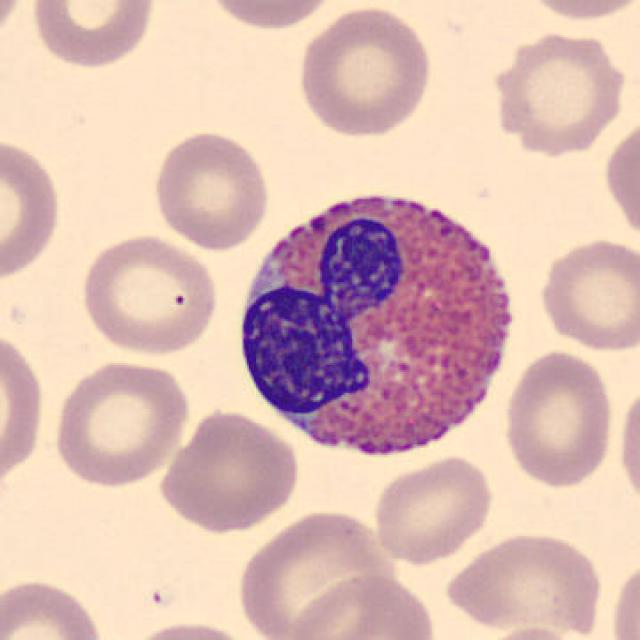Eosinophil: (228, 173, 530, 478)
RBC: (234, 506, 394, 640), (294, 2, 436, 141), (48, 356, 192, 490), (155, 406, 302, 534), (487, 26, 629, 157), (444, 527, 611, 635), (76, 231, 220, 356), (499, 347, 617, 490), (149, 127, 274, 252), (370, 451, 498, 566), (535, 233, 638, 354), (281, 571, 439, 640), (0, 132, 66, 286), (27, 0, 160, 71), (0, 323, 46, 499), (0, 573, 108, 640), (601, 113, 638, 247), (200, 0, 341, 33), (613, 377, 640, 515), (121, 617, 261, 640), (517, 0, 640, 25), (608, 553, 640, 640)
